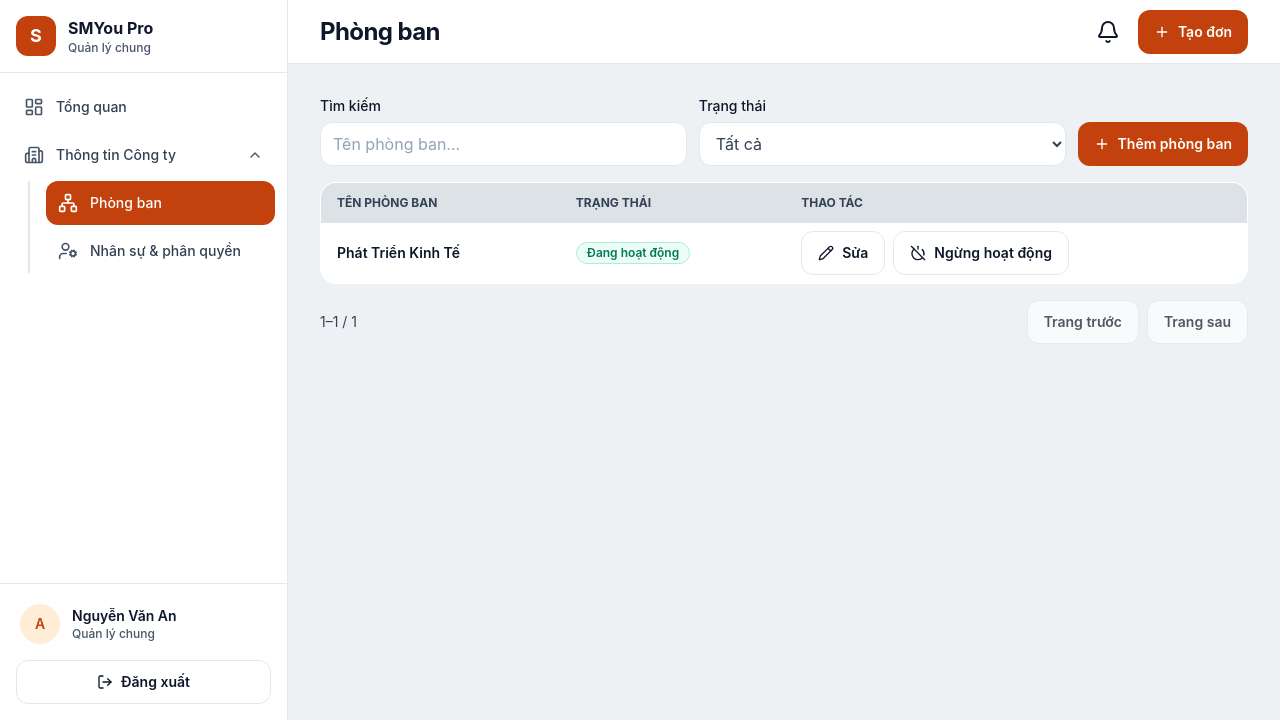
Test: AC-EMP-050 ngừng / mở lại hoạt động › xác nhận hộp thoại → toast + badge đổi, rồi mở lại
What coordinates should you click on to do the following:
click the button "Ngừng hoạt động"
I would click on:
 (981, 253)
Its box is left=893, top=231, right=1069, bottom=275.
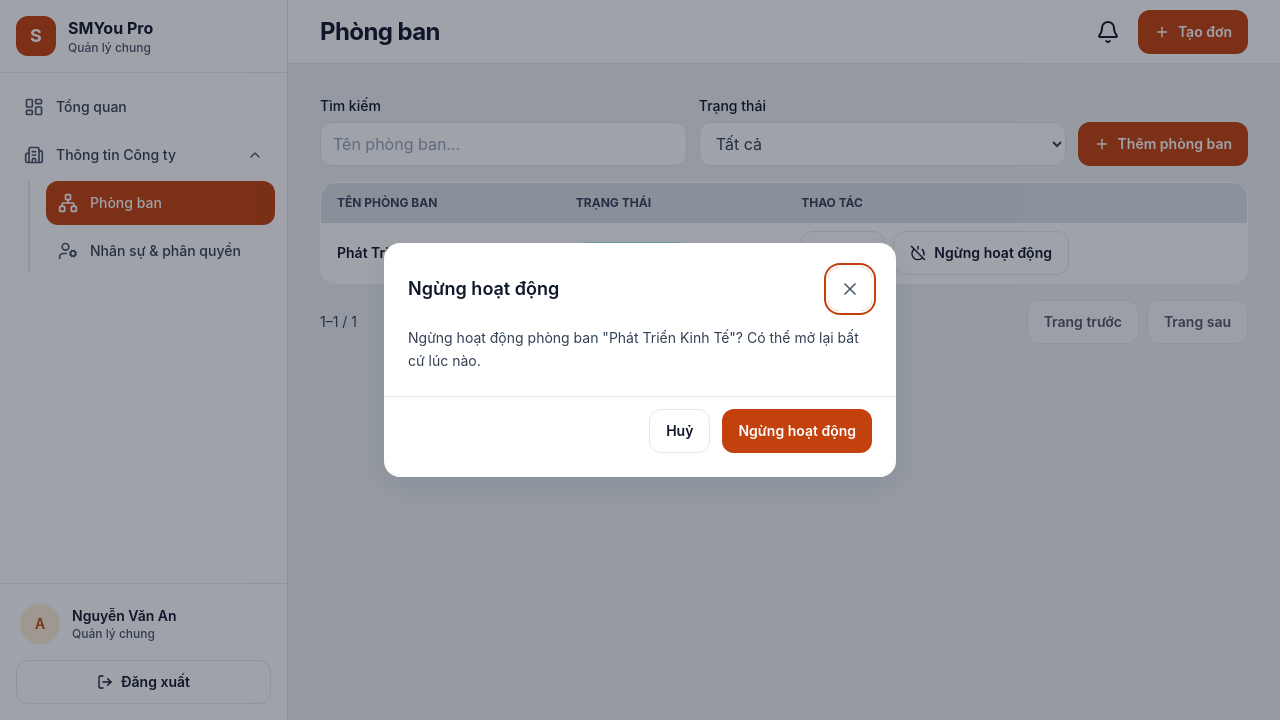
What coordinates should you click on to do the following:
click the button "Ngừng hoạt động"
I would click on:
 (797, 431)
Its box is left=722, top=409, right=872, bottom=453.
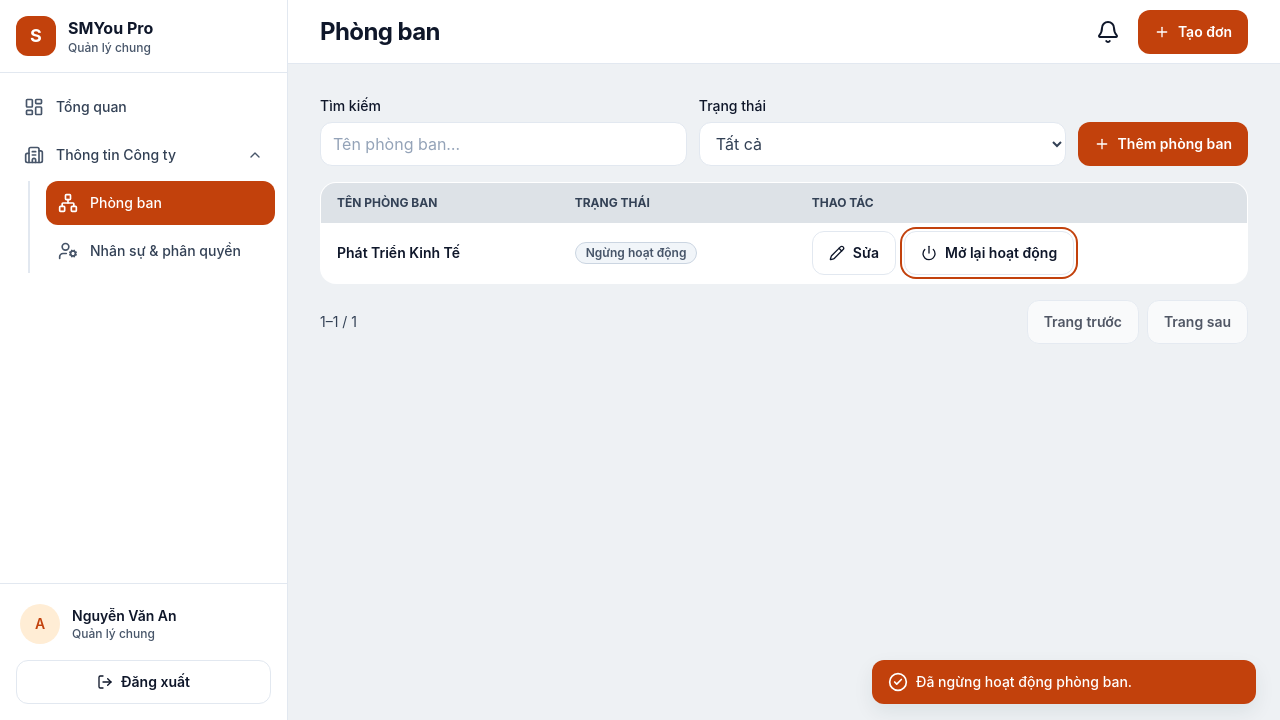
Now the text "Đã ngừng hoạt động phòng ban." is shown, box left=872, top=660, right=1256, bottom=704
Now the text "Ngừng hoạt động" is shown, box left=575, top=242, right=698, bottom=264
What coordinates should you click on to do the following:
click the button "Mở lại hoạt động"
I would click on:
 (989, 253)
Its box is left=904, top=231, right=1074, bottom=275.
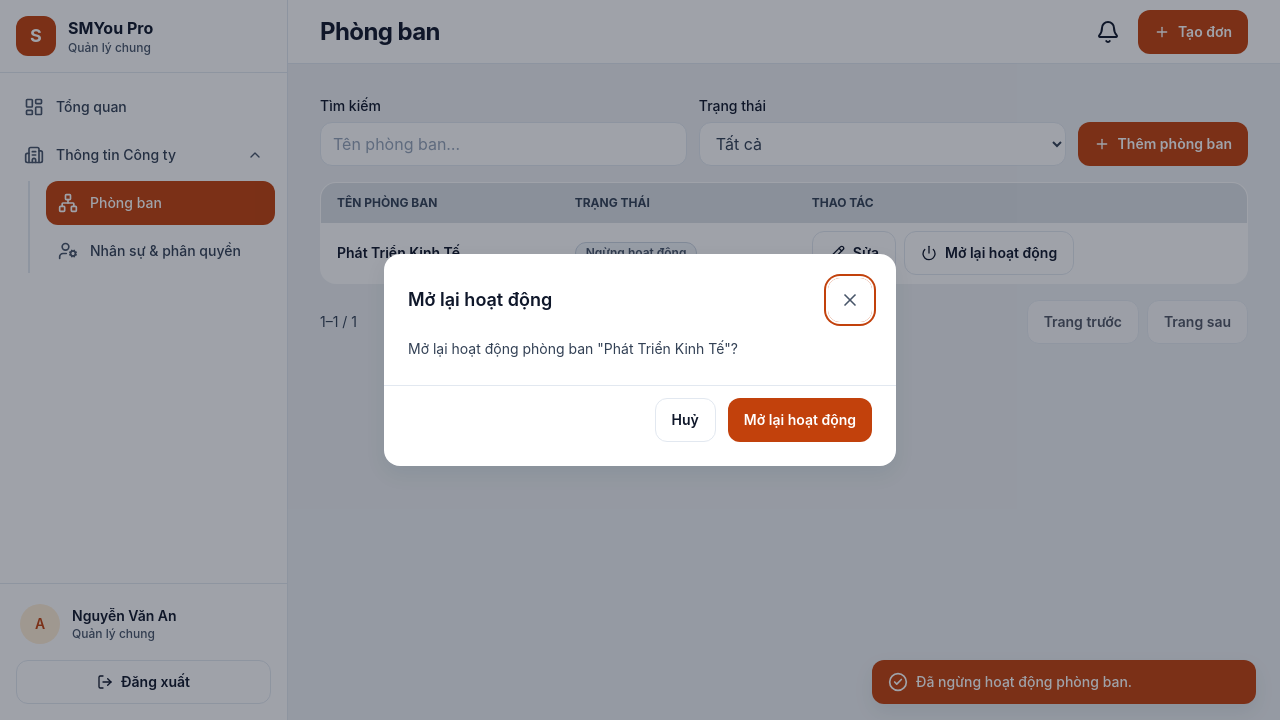
What coordinates should you click on to do the following:
click the button "Mở lại hoạt động"
I would click on:
 (800, 420)
Its box is left=728, top=398, right=872, bottom=442.
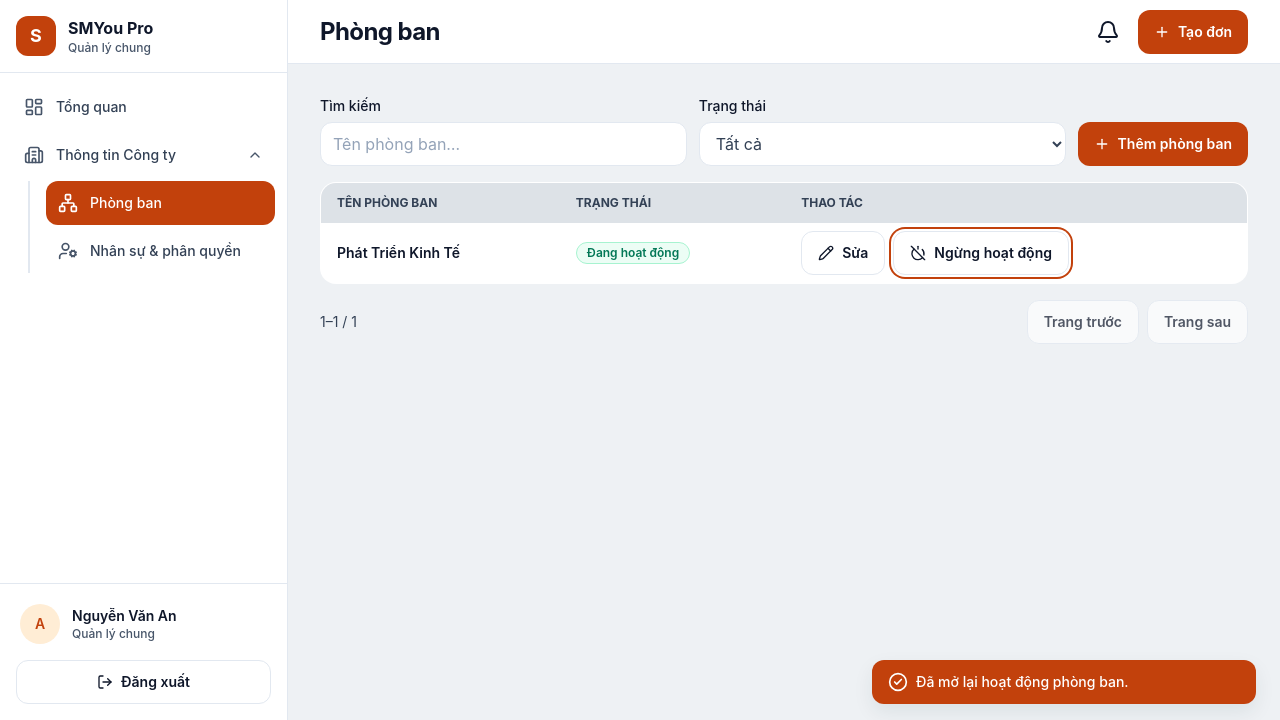
Now the text "Đã mở lại hoạt động phòng ban." is shown, box left=872, top=660, right=1256, bottom=704
Now the text "Đang hoạt động" is shown, box left=576, top=242, right=690, bottom=264
